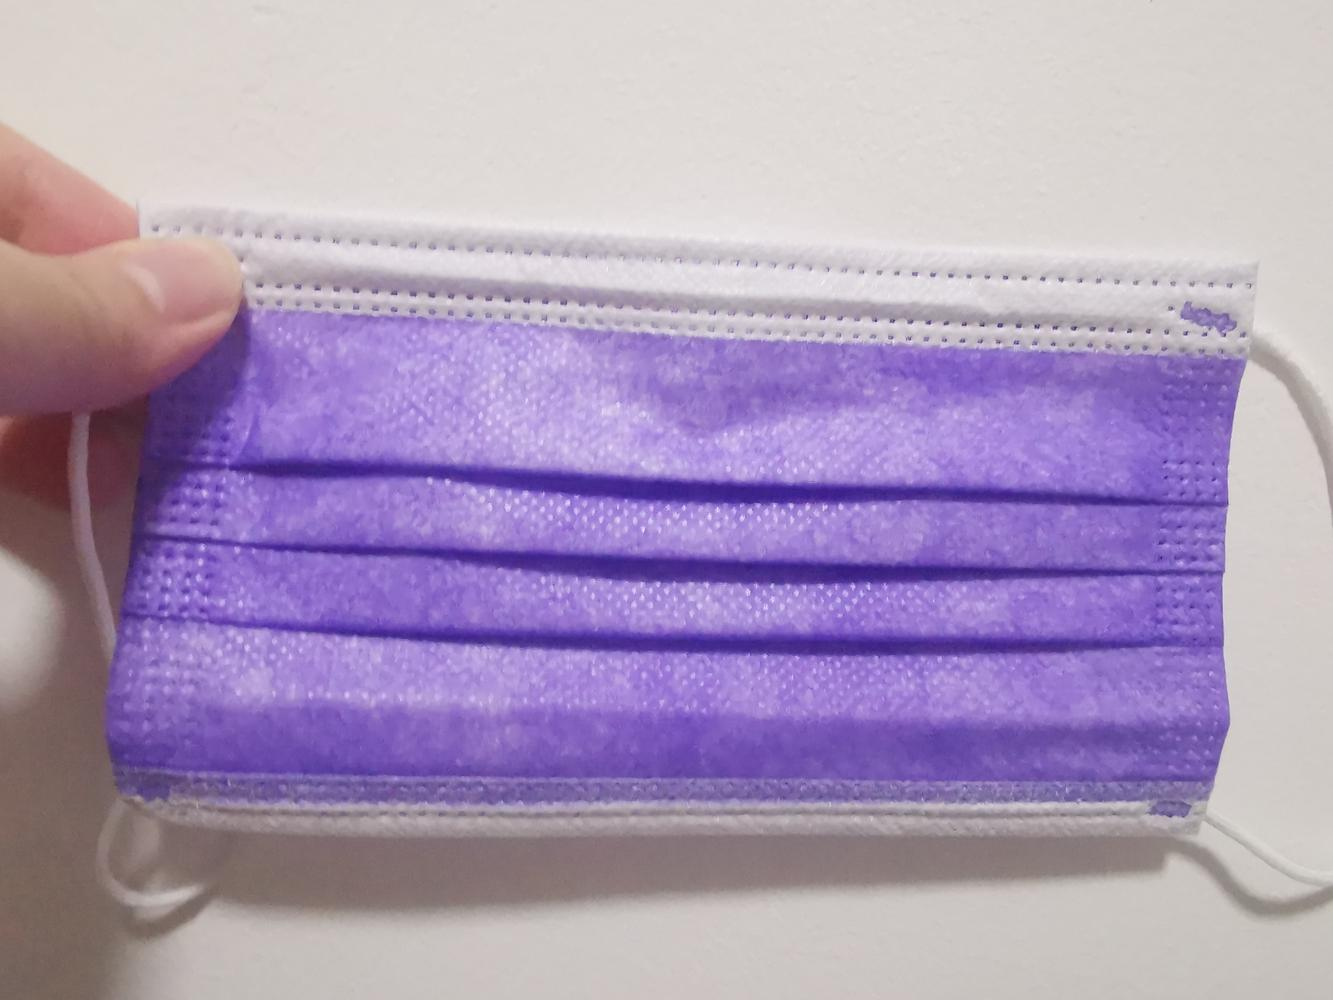Face Mask: (142, 221, 1238, 841)
Undefined Object: (8, 131, 240, 439)
